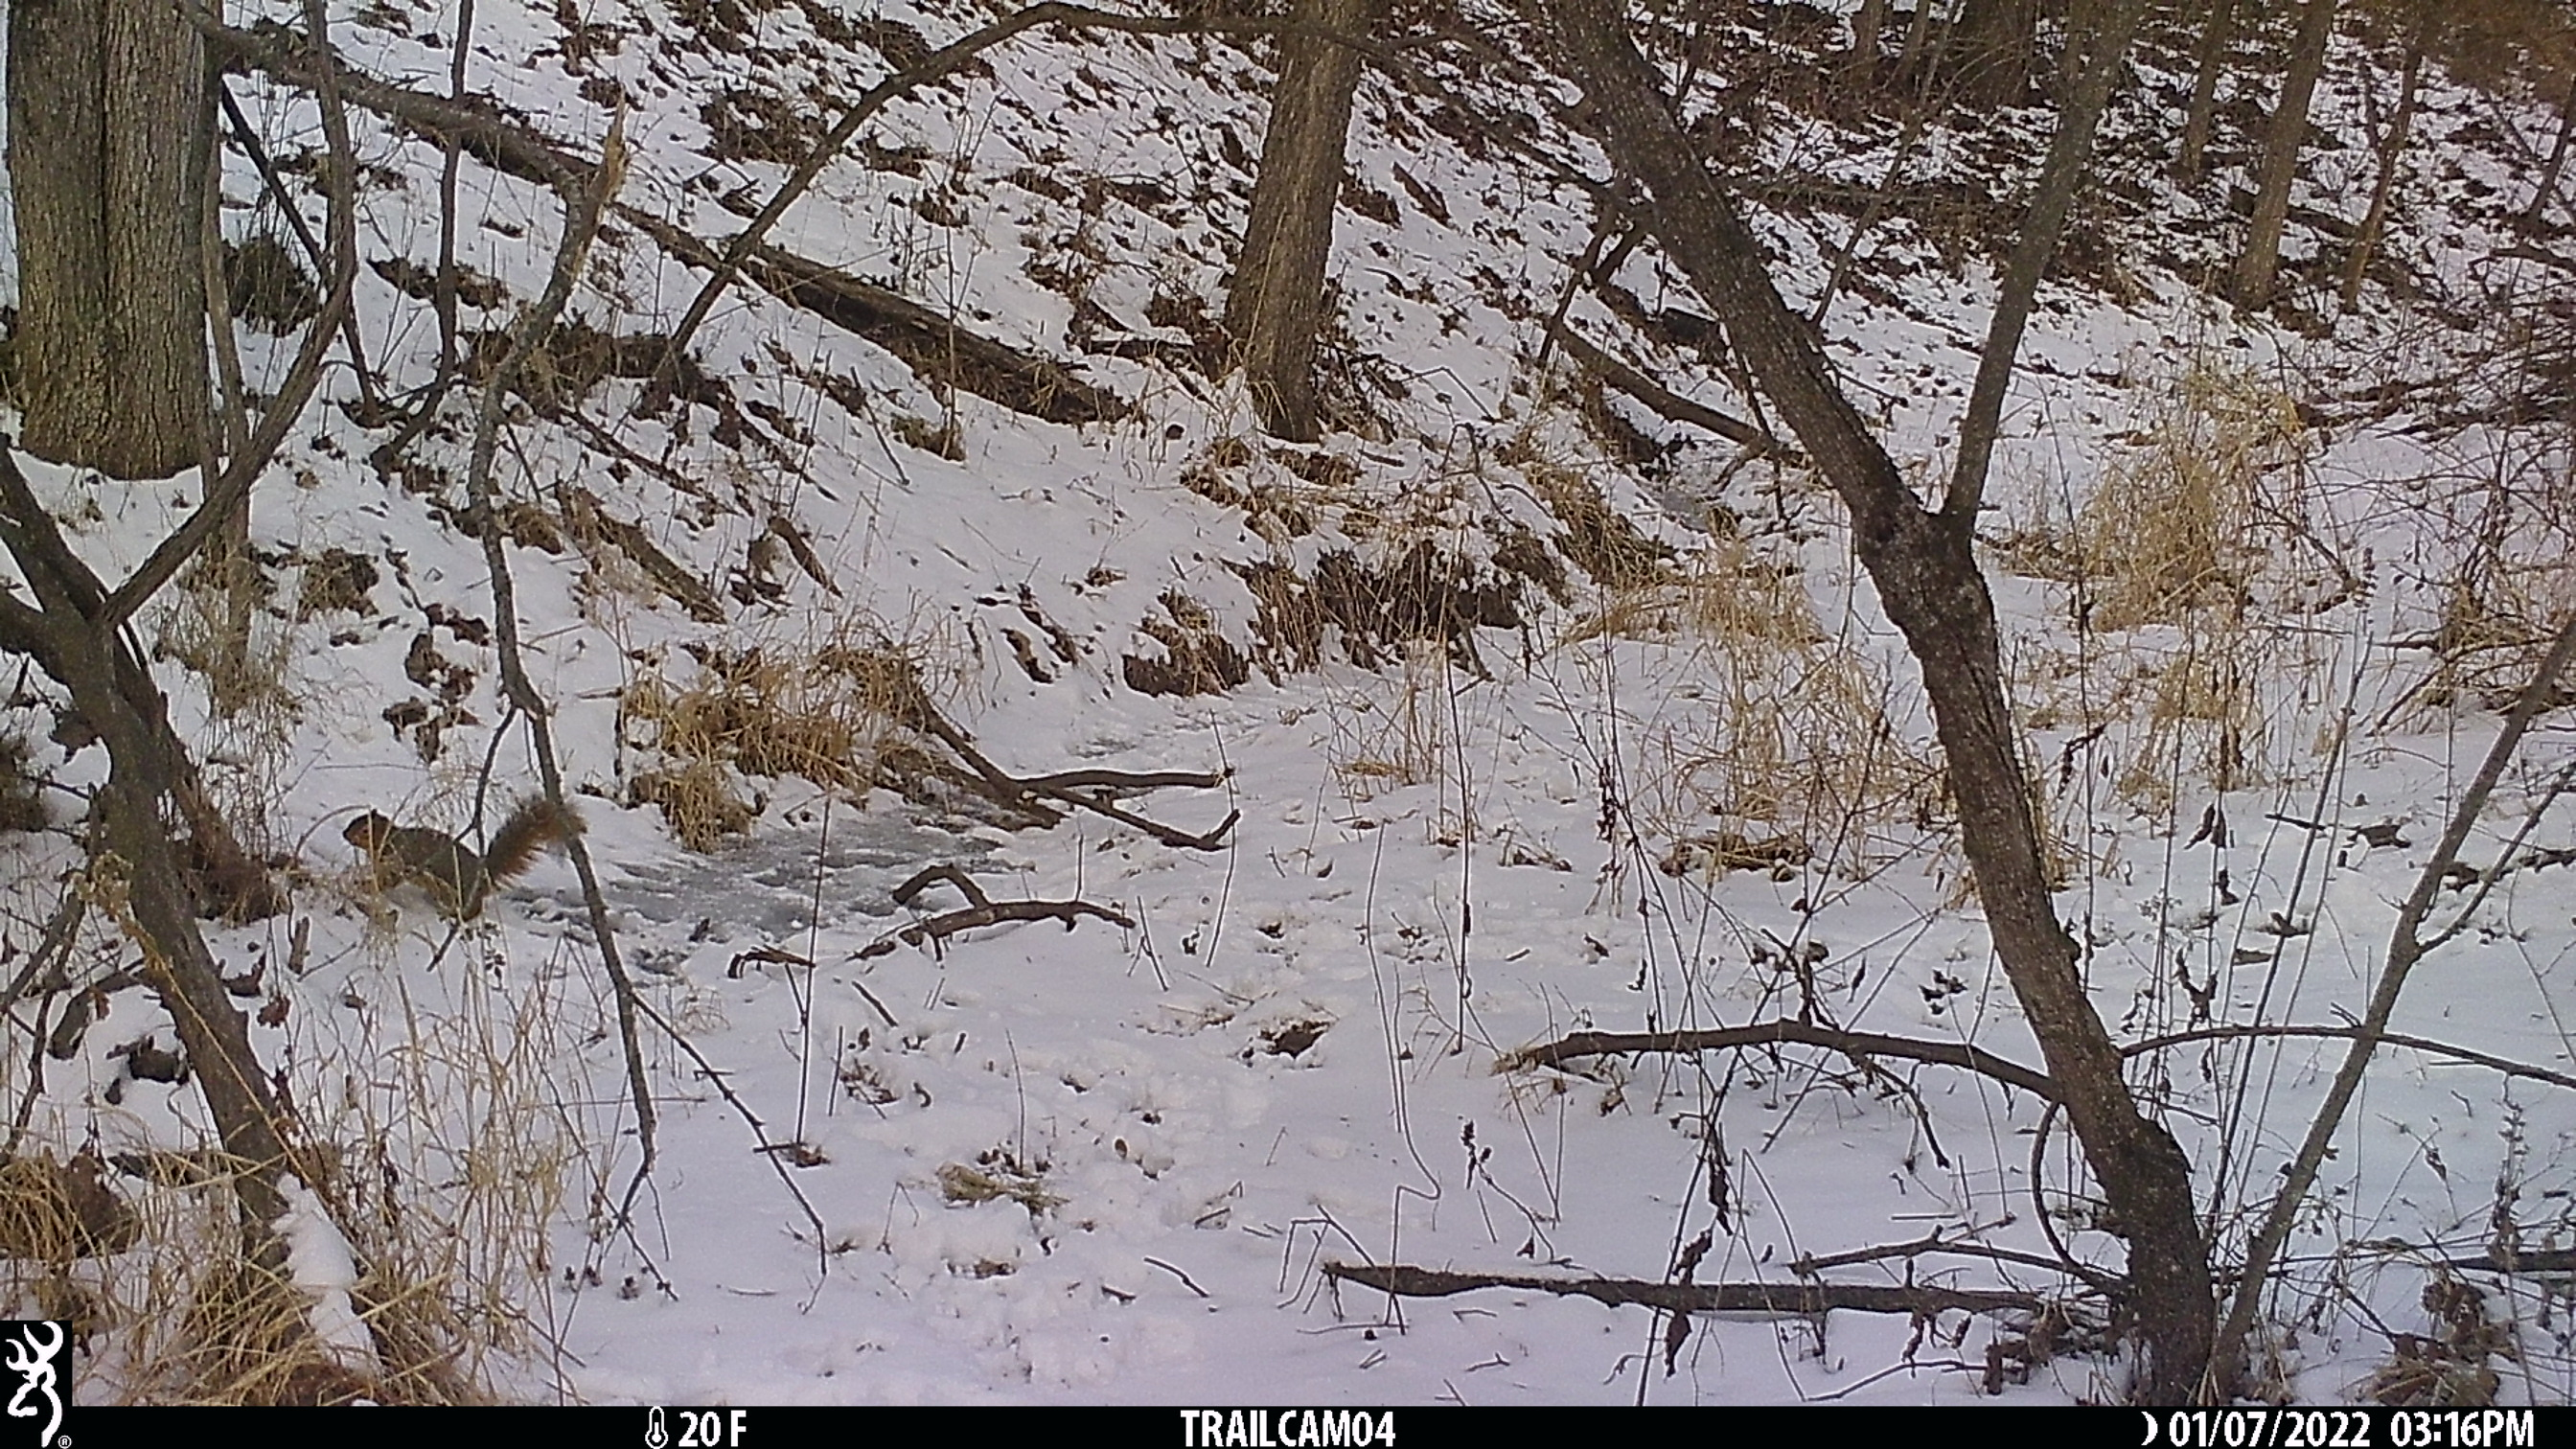Squirrel: (340, 793, 584, 916)
